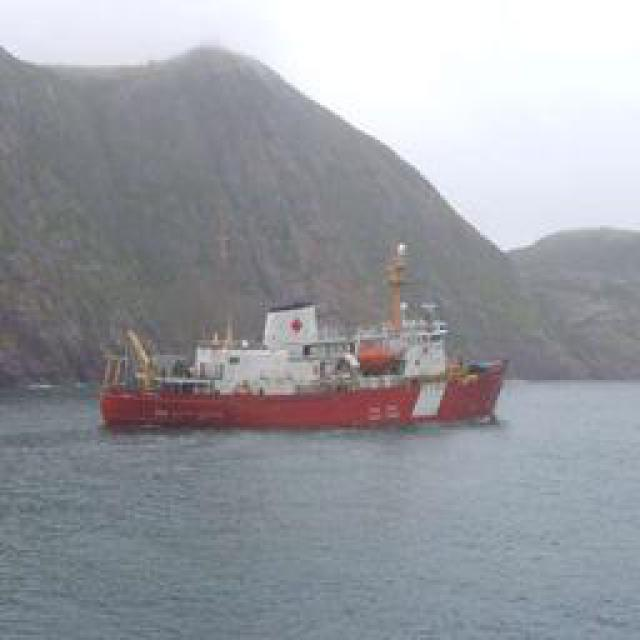Ship: (102, 299, 500, 434)
